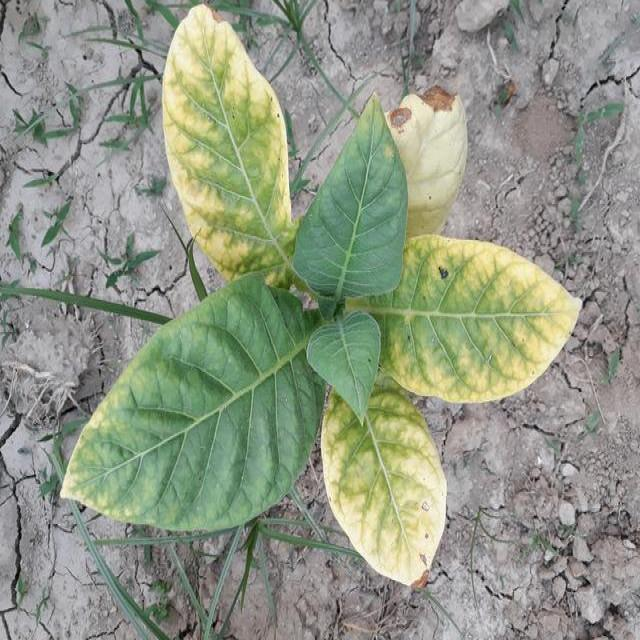crop: (61, 1, 581, 594)
